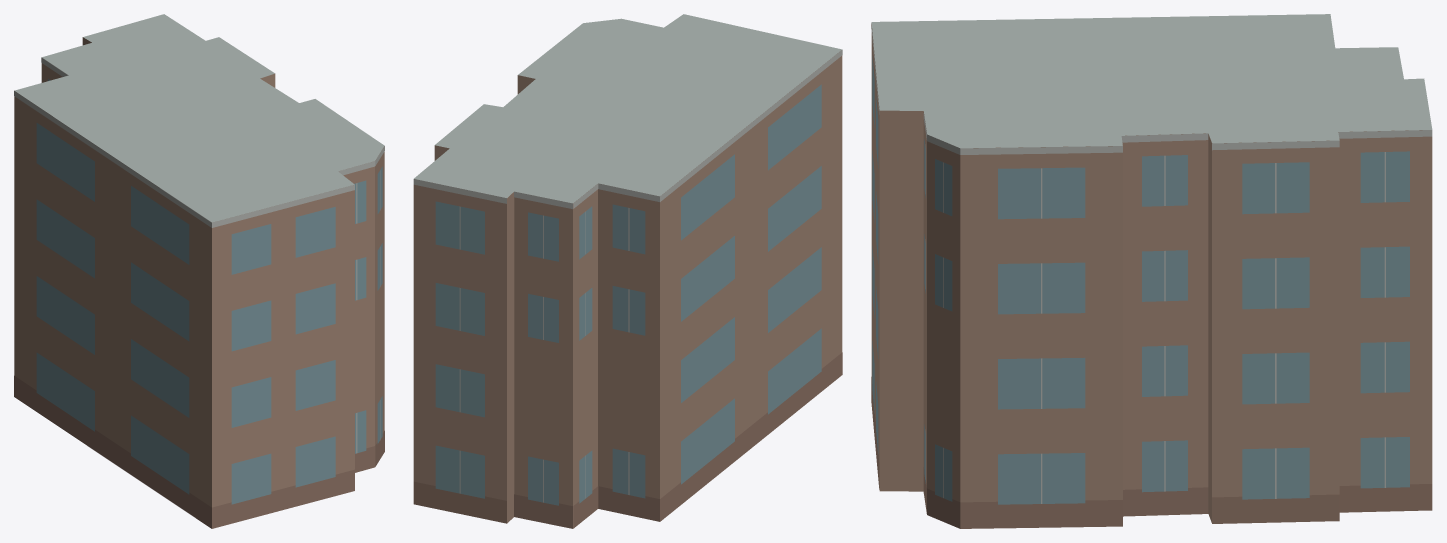
File: survey-upis-32628093.glb
3 views of the same model, side by side, from view 1: azimuth 30°, elevation 25°; view 2: azimuth 150°, elevation 25°; view 3: azimuth 270°, elevation 25° (orthographic). The views are drawn at different scales.
Parts seen in each view (by area): view 1: survey-upis-32628093.tmp; view 2: survey-upis-32628093.tmp; view 3: survey-upis-32628093.tmp.
Boxes of the visible parts, bbox=[...] form: survey-upis-32628093.tmp: bbox=[14, 14, 384, 528]; survey-upis-32628093.tmp: bbox=[413, 14, 842, 528]; survey-upis-32628093.tmp: bbox=[871, 14, 1432, 528].
Bounding box in the file's own units: 10.38 × 13.7 × 18.31.
